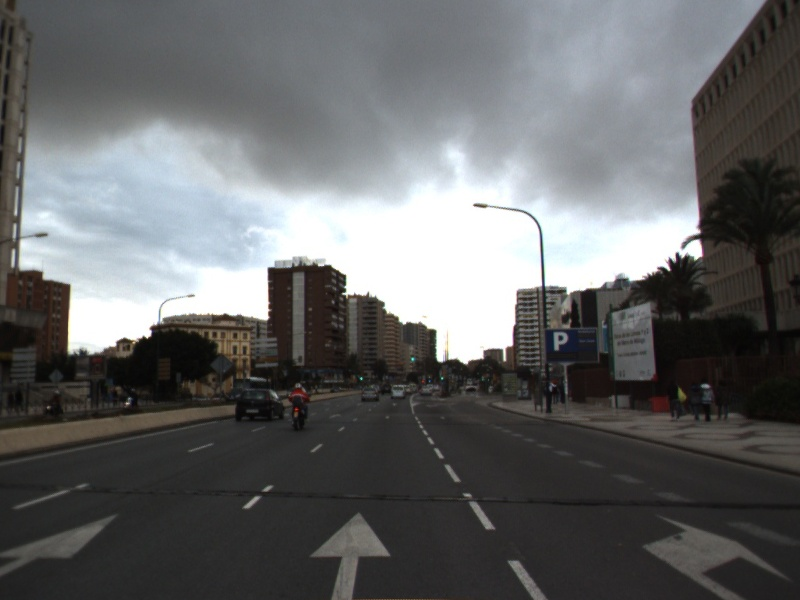RIGHT: (639, 511, 795, 600)
STRAIGHT: (1, 509, 122, 579), (306, 507, 395, 600)
